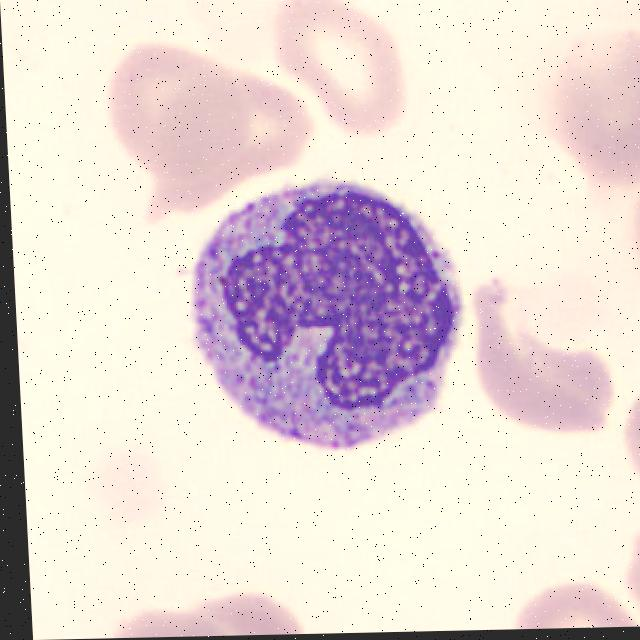monocyte: (155, 158, 484, 491)
rbc: (140, 79, 319, 216), (464, 276, 601, 433), (105, 48, 236, 175), (277, 0, 398, 134), (558, 31, 640, 187), (200, 580, 312, 636), (515, 583, 640, 629), (105, 607, 237, 638), (618, 383, 640, 512), (626, 178, 640, 284), (628, 520, 640, 627)
